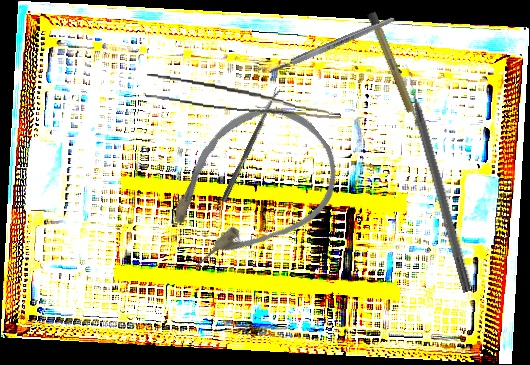Cannula: (139, 82, 359, 294)
Pusher: (401, 61, 475, 294)
Scalpel Handle: (267, 15, 397, 76), (366, 9, 423, 132)
Surgical Spoon: (220, 87, 282, 203)
Tissue Forceps: (144, 73, 343, 120)
